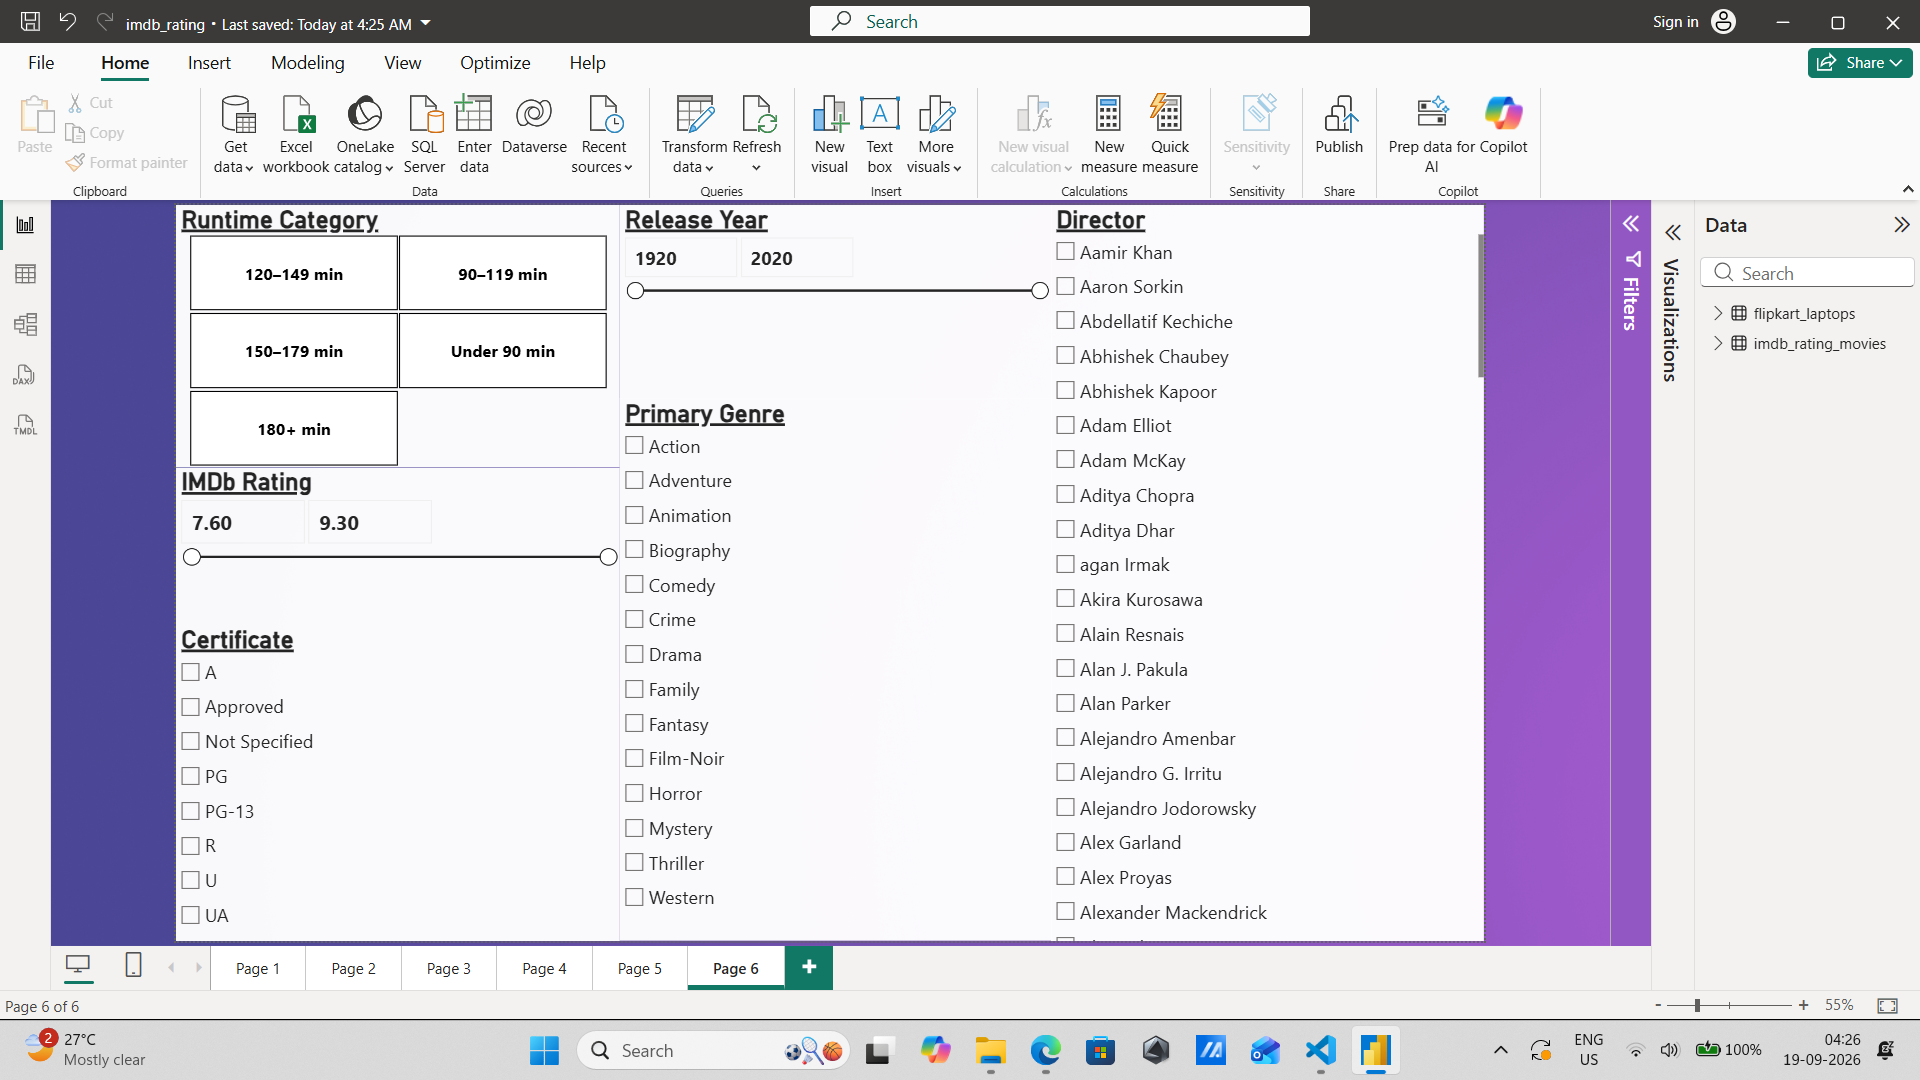

The dashboard page shown, as its layout file describes it:
{"tool":"powerbi","page":{"name":"Page 6","canvas":[1920,1080],"ordinal":5},"visuals":[{"type":"slicer","fields":{"Values":["imdb_top_1000_movies_20260911_205646 (2).Certificate"]},"box":[0,615.6,651.1,464.4],"z":2},{"type":"slicer","fields":{"Values":["imdb_top_1000_movies_20260911_205646 (2).IMDb Rating"]},"box":[0,384.4,651.1,231.1],"z":3},{"type":"slicer","fields":{"Values":["imdb_top_1000_movies_20260911_205646 (2).Runtime Category"]},"box":[0,0,651.1,384.4],"z":4},{"type":"slicer","fields":{"Values":["imdb_top_1000_movies_20260911_205646 (2).Director"]},"box":[1284.4,0,635.6,1080],"z":5},{"type":"slicer","fields":{"Values":["imdb_top_1000_movies_20260911_205646 (2).Release Year"]},"box":[651.1,0,633.3,284.4],"z":6},{"type":"slicer","fields":{"Values":["imdb_top_1000_movies_20260911_205646 (2).Primary Genre"]},"box":[651.1,284.4,633.3,795.6],"z":7}]}

Visuals, with their boxes on the page's 1920x1080 design canvas (x1, y1, x2, y2). These are canvas units, not pixel positions in the 1920x1080 screenshot, which may show the page scaled, cropped or inside an application window:
slicer - imdb_top_1000_movies_20260911_205646 (2).Certificate: (0,616,651,1080)
slicer - imdb_top_1000_movies_20260911_205646 (2).IMDb Rating: (0,384,651,616)
slicer - imdb_top_1000_movies_20260911_205646 (2).Runtime Category: (0,0,651,384)
slicer - imdb_top_1000_movies_20260911_205646 (2).Director: (1284,0,1920,1080)
slicer - imdb_top_1000_movies_20260911_205646 (2).Release Year: (651,0,1284,284)
slicer - imdb_top_1000_movies_20260911_205646 (2).Primary Genre: (651,284,1284,1080)
